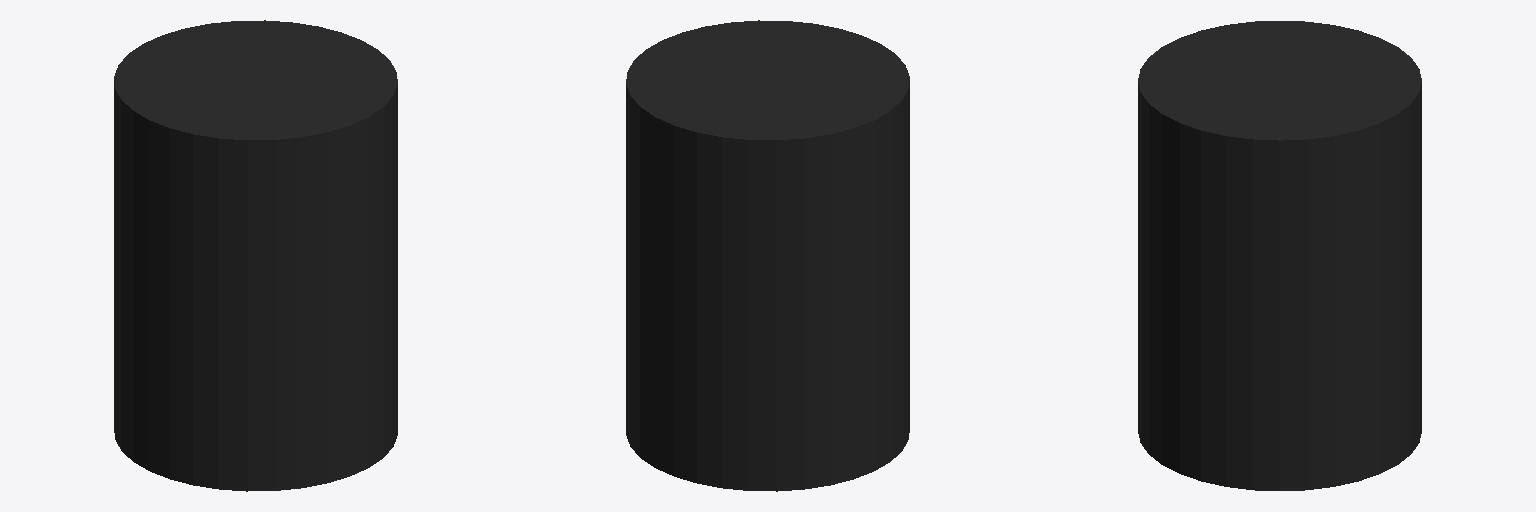
The robot description file, URDF, robot "mount.urdf":
<?xml version="0.0" ?>
<robot name="mount.urdf">
  <link name="baseLink">
    <contact>
      <lateral_friction value="1.0"/>
      <inertia_scaling value="3.0"/>
    </contact>
    <inertial>
      <origin rpy="0 0 0" xyz="0 0 0"/>
      <mass value="0"/>
      <inertia ixx="1" ixy="0" ixz="0" iyy="1" iyz="0" izz="1"/>
    </inertial>
    <visual>
      <origin rpy="0 0 0" xyz="0 0 0"/>
      <geometry>
				<cylinder length="0.2" radius="0.0734"/>
      </geometry>
      <material name="DarkGrey">
        <color rgba="0.2 0.2 0.2 1"/>
      </material>
    </visual>
    <!-- <collision>
      <origin rpy="0 0 0" xyz="0 0 0"/>
      <geometry>
	 	    <cylinder length="0.4" radius="0.0734"/>
      </geometry>
    </collision> -->
  </link>
</robot>


--- What the picture shows (computed from the rendered views, not written in the file) ---
3 views of the same robot in one strip: view 1: azimuth 30°, elevation 25°; view 2: azimuth 150°, elevation 25°; view 3: azimuth 270°, elevation 25° (orthographic).
Model mount.urdf with 1 links and 0 joints (none), rooted at baseLink, posed every joint at zero.
Visible links, largest first — view 1: baseLink; view 2: baseLink; view 3: baseLink.
Boxes of the visible links, x1,y1,x2,y2 form: baseLink: (114,20,397,491); baseLink: (626,20,909,491); baseLink: (1138,21,1421,490).
Bounding box of the posed robot: 0.1468 × 0.1468 × 0.2 m (x, y, z).
Geometry: primitives only (box / cylinder / sphere), no mesh files.